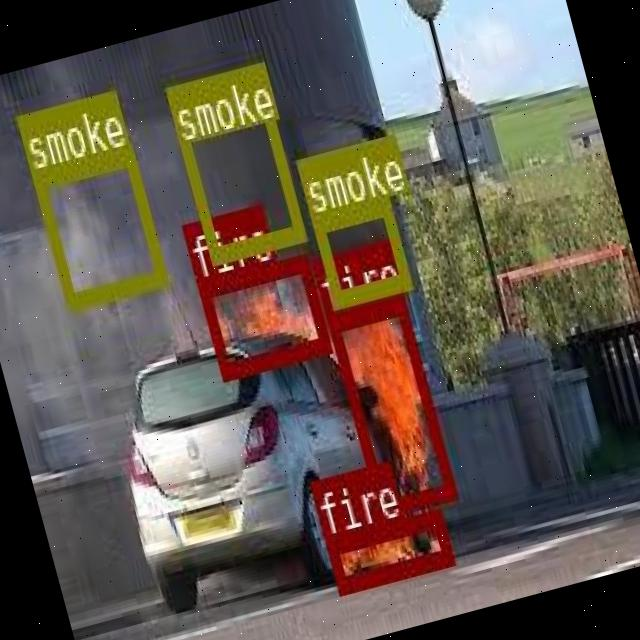fire: (325, 294, 455, 516), (194, 251, 328, 378), (323, 506, 452, 590)
smoke: (162, 62, 304, 262), (31, 146, 166, 308), (308, 195, 409, 304)
